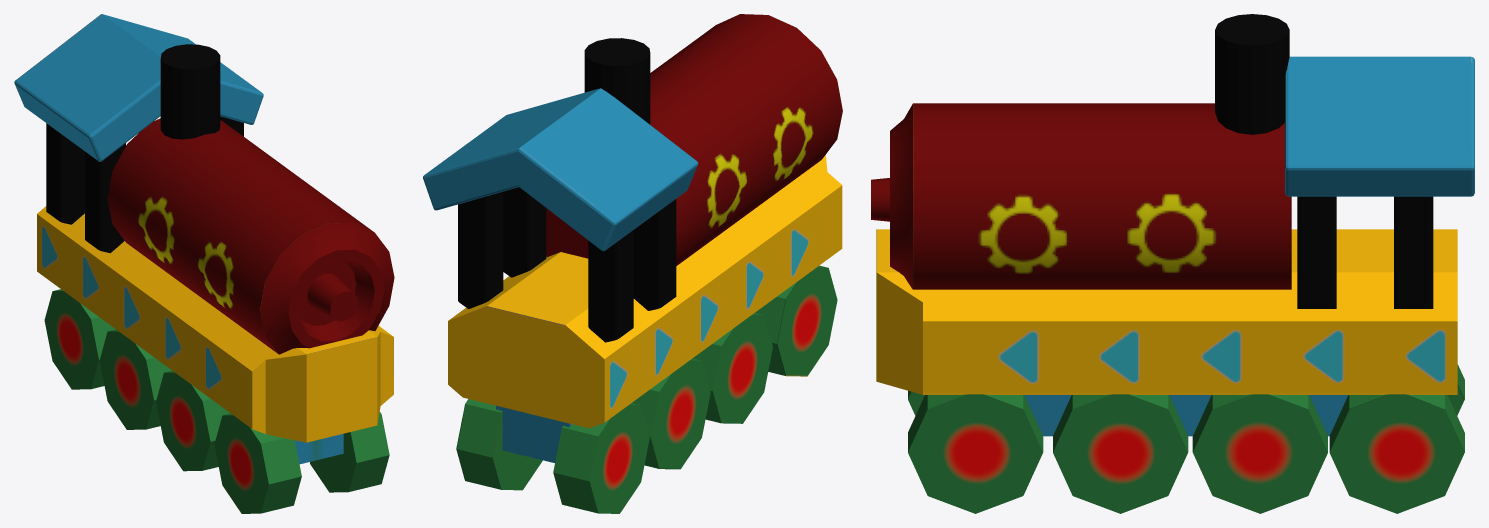
Rendered from Train.fbx.
The picture shows the model from 3 angles, left to right: view 1: azimuth 30°, elevation 25°; view 2: azimuth 150°, elevation 25°; view 3: azimuth 270°, elevation 25°; orthographic projection. The views are drawn at different scales.
Parts seen in each view (by area): view 1: Cylinder.019, Plane.035, Cylinder.023, Plane.036, Plane.038, Cylinder.020, Plane.034; view 2: Plane.035, Cylinder.019, Cylinder.023, Plane.036, Plane.038, Cylinder.020, Plane.034; view 3: Cylinder.019, Plane.035, Cylinder.023, Plane.036, Plane.038, Cylinder.020, Plane.034.
Boxes of the visible parts, x1,y1,x2,y2 form: Cylinder.019: (107,118,394,354); Plane.035: (37,206,393,442); Cylinder.023: (44,289,389,513); Plane.036: (14,14,263,161); Plane.038: (46,116,243,253); Cylinder.020: (160,44,220,139); Plane.034: (295,433,343,464); Plane.035: (448,155,842,428); Cylinder.019: (546,14,842,265); Cylinder.023: (456,265,837,513); Plane.036: (423,88,698,251); Plane.038: (458,187,676,342); Cylinder.020: (584,38,650,124); Plane.034: (496,405,571,462); Cylinder.019: (871,103,1291,289); Plane.035: (876,229,1457,394); Cylinder.023: (908,364,1464,513); Plane.036: (1285,56,1474,196); Plane.038: (1297,196,1433,308); Cylinder.020: (1215,14,1289,134); Plane.034: (1024,395,1347,436).
Size of the model in its own units: 370 by 730 by 893.
1 material, 1 textured.
